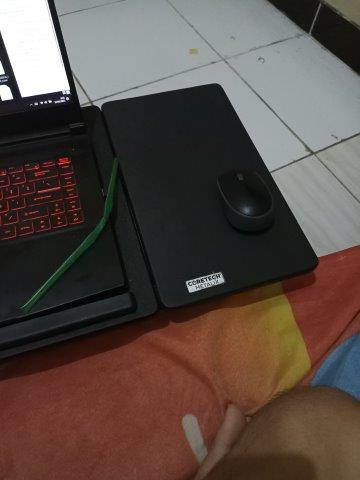sedotan: (23, 160, 118, 309)
